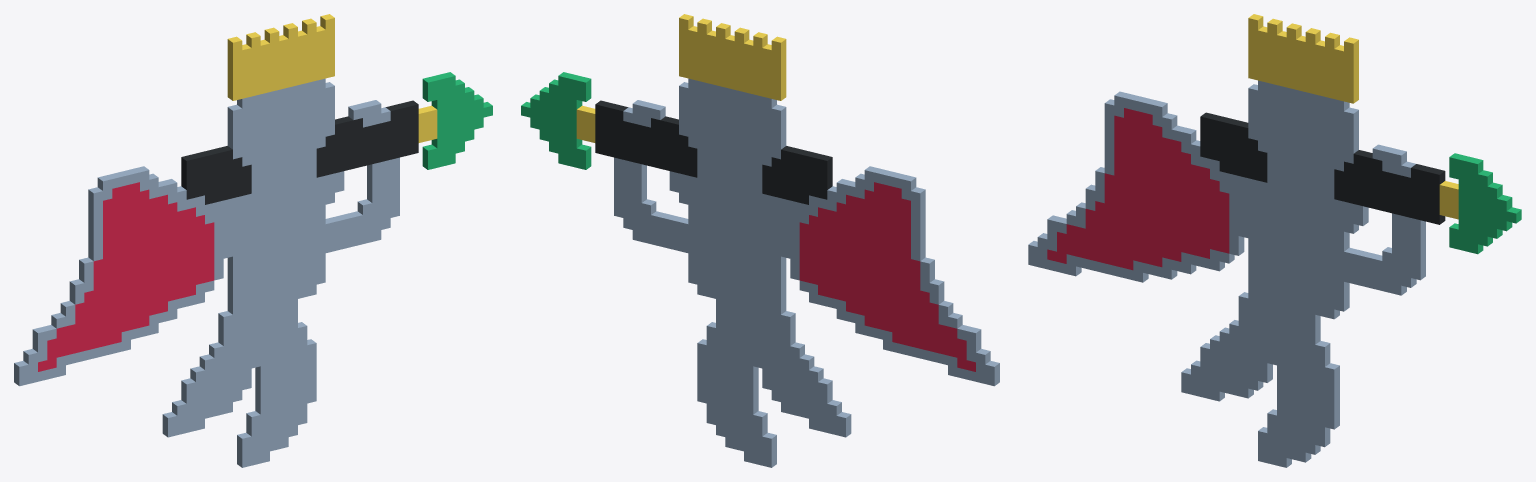
The model's file is RocketCupid_Upgraded.fbx.
The picture shows the model from 3 angles, left to right: view 1: azimuth 30°, elevation 25°; view 2: azimuth 150°, elevation 25°; view 3: azimuth 330°, elevation 25°; orthographic projection. The views are drawn at different scales.
Parts seen in each view (by area): view 1: generated; view 2: generated; view 3: generated.
Boxes of the visible parts, x1=… form: generated: x1=14, y1=14, x2=492, y2=467; generated: x1=521, y1=14, x2=999, y2=467; generated: x1=1028, y1=14, x2=1521, y2=467.
Bounding box in the file's own units: 510 × 440 × 10.
